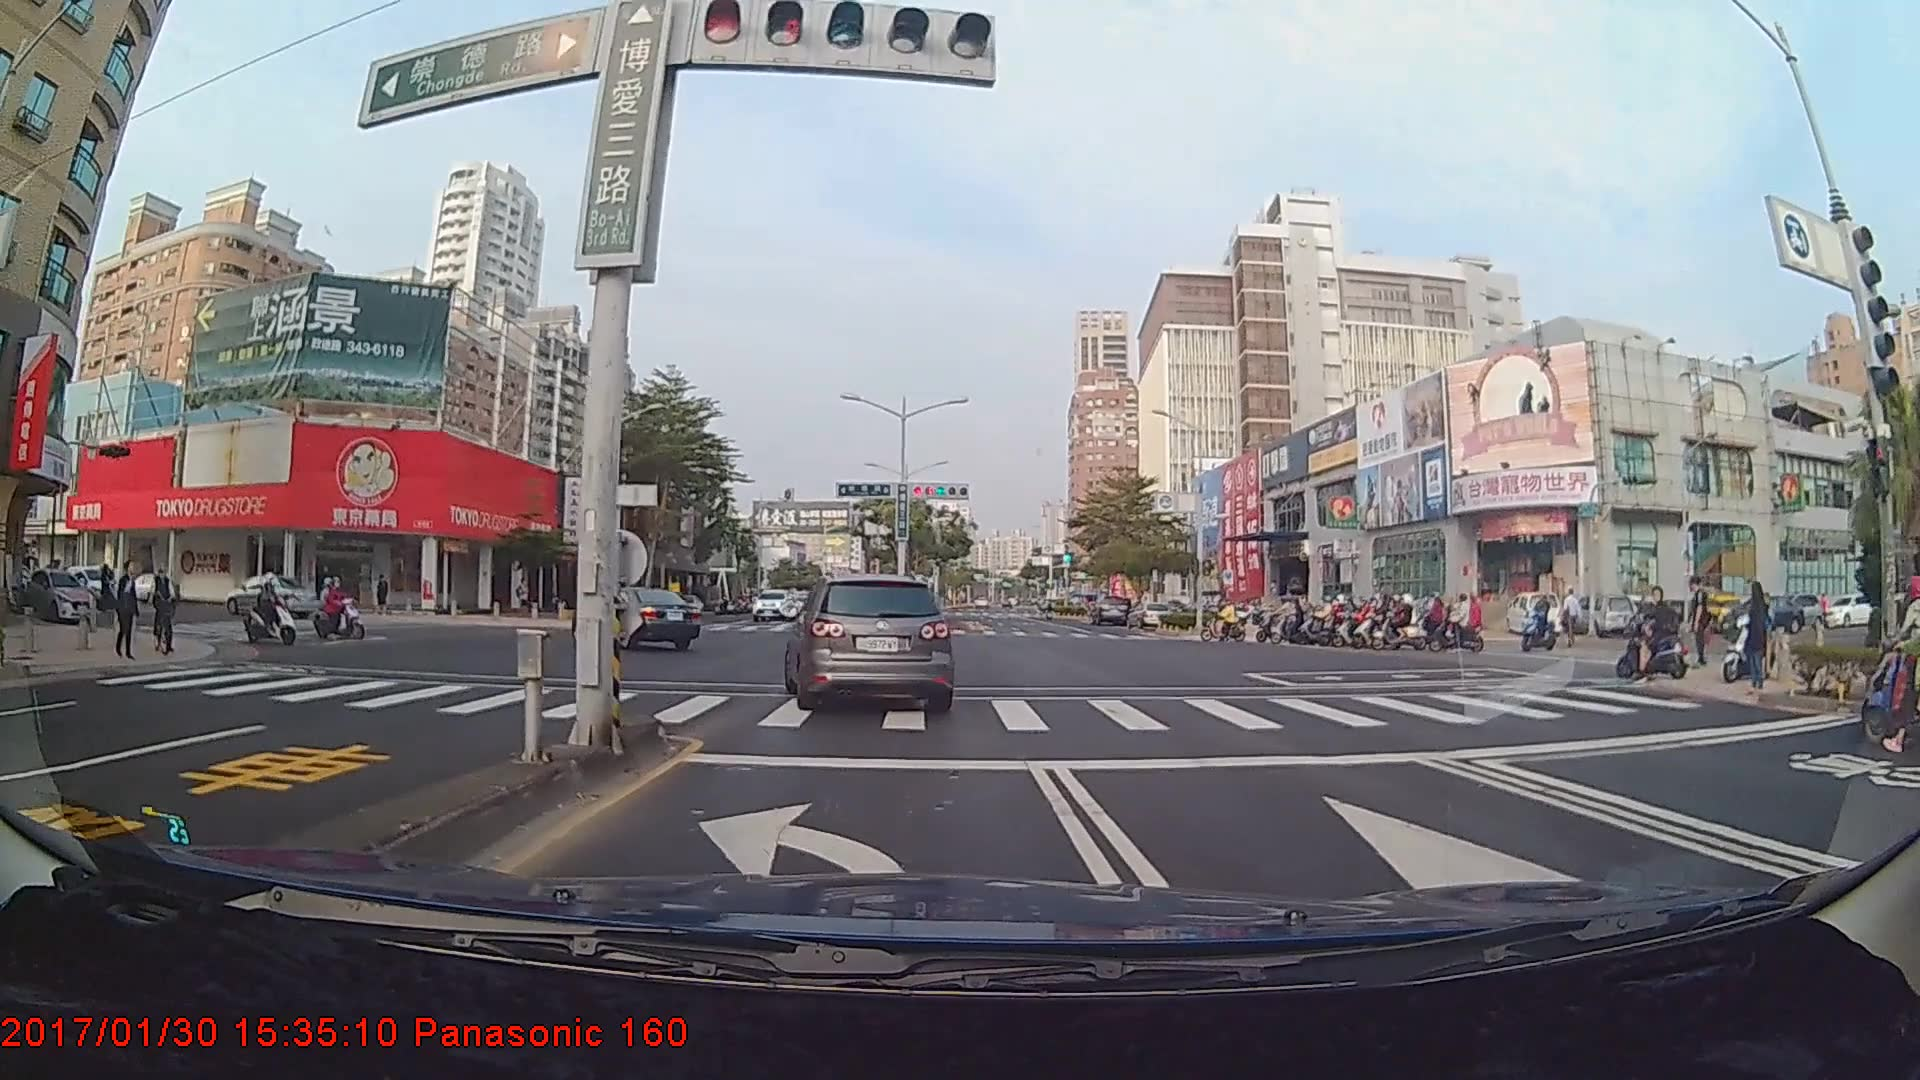pedestrian: (1738, 574, 1778, 699), (114, 563, 140, 665), (1690, 576, 1715, 671)
rider: (1715, 582, 1782, 689), (1623, 590, 1696, 682), (238, 570, 308, 652), (311, 578, 373, 642), (145, 564, 185, 660), (1431, 593, 1485, 659), (1515, 596, 1567, 652), (1252, 594, 1305, 643), (1387, 594, 1433, 651), (1356, 594, 1402, 644), (1201, 601, 1255, 644), (1328, 599, 1372, 647), (1344, 600, 1384, 646)
vehicle: (781, 571, 956, 714), (572, 588, 697, 653), (221, 575, 312, 616), (1089, 594, 1131, 627)
